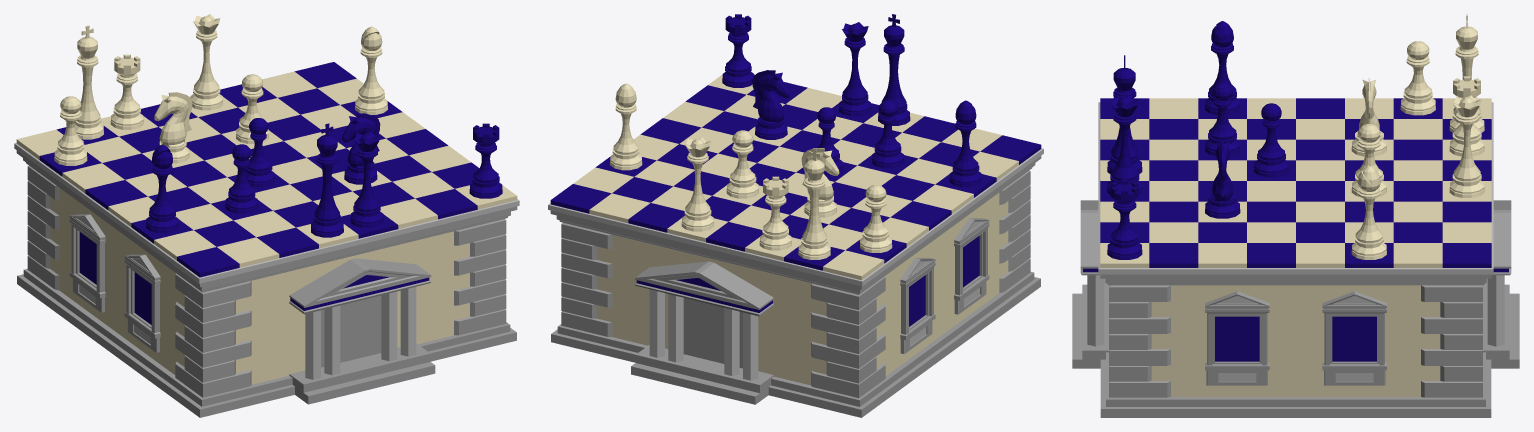
Rendered from Chess.fbx.
3 views of the same model, side by side, from view 1: azimuth 30°, elevation 25°; view 2: azimuth 150°, elevation 25°; view 3: azimuth 270°, elevation 25° (orthographic). The views are drawn at different scales.
Visible parts, largest first — view 1: roof, base, corners, door, window, Cylinder, BK, WK, WN, BQ, WQ, BB (+8 smaller); view 2: roof, base, corners, door, window, Cylinder, BN, WK, WQ, BQ, WB, BB (+8 smaller); view 3: roof, base, corners, window, door, Cylinder, WQ, WB, BR, WP, BQ, BP.001 (+8 smaller).
Part boxes in pixels (x1,y1,x2,y2): roof: (14,62,519,292); base: (17,188,516,417); corners: (27,165,506,397); door: (289,258,435,404); window: (69,214,160,352); Cylinder: (305,287,416,379); BK: (311,123,343,237); WK: (75,25,103,139); WN: (154,92,192,163); BQ: (350,131,383,227); WQ: (190,14,222,110); BB: (146,144,178,232); roof: (548,74,1043,294); base: (551,193,1040,417); corners: (561,170,1030,398); door: (631,261,773,404); window: (900,218,989,353); Cylinder: (649,289,758,380); BN: (752,70,789,139); WK: (798,148,830,259); WQ: (681,137,713,231); BQ: (839,22,871,116); WB: (610,83,642,170); BB: (949,100,981,187); roof: (1098,98,1493,285); base: (1100,278,1491,417); corners: (1109,285,1482,397); window: (1205,291,1386,385); door: (1072,200,1519,368); Cylinder: (1087,275,1504,346); WQ: (1449,95,1484,197); WB: (1351,165,1386,259); BR: (1107,179,1142,259); WP: (1400,41,1435,115); BQ: (1107,95,1142,194); BP.001: (1254,103,1288,177).
Bounding box in the file's own units: 404 × 303 × 457.
